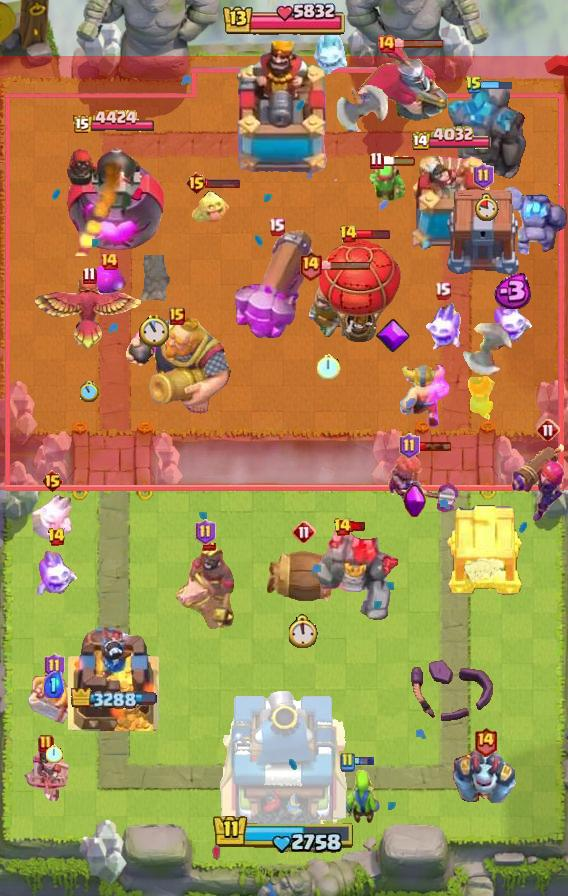axe: (335, 68, 389, 132), (459, 323, 525, 375)
bar: (320, 260, 372, 271), (393, 38, 445, 49), (205, 177, 241, 189), (381, 155, 417, 167), (356, 228, 391, 240), (417, 441, 452, 452), (481, 80, 513, 91), (353, 756, 375, 767), (350, 521, 367, 532)
bar-level: (473, 726, 498, 757), (298, 250, 323, 281), (292, 520, 316, 544), (536, 418, 560, 442), (41, 469, 64, 493), (185, 171, 208, 195), (44, 653, 65, 679), (195, 519, 216, 545), (399, 433, 420, 459), (473, 163, 494, 189), (99, 251, 119, 271), (376, 34, 396, 54), (47, 527, 66, 547), (333, 517, 352, 537), (339, 224, 358, 244), (465, 75, 483, 95), (434, 281, 451, 300), (268, 217, 285, 236), (339, 752, 355, 772), (38, 734, 54, 754), (169, 307, 185, 325), (82, 266, 97, 285), (369, 151, 384, 170)
barbarian-barrel: (264, 548, 344, 608)
cannoneer-tower: (64, 138, 165, 256)
clock: (289, 614, 319, 648), (139, 314, 169, 347), (475, 193, 499, 221), (317, 353, 341, 380), (80, 381, 99, 402), (46, 744, 63, 763)
dirt: (135, 255, 173, 301)
elite-barbarian: (399, 362, 450, 428), (28, 672, 81, 724)
elixir: (489, 273, 533, 309), (44, 671, 64, 698)
elixir-golem-small: (91, 266, 127, 296)
evolution-symbol: (375, 318, 411, 354), (403, 484, 427, 520)
firecracker-evolution: (508, 439, 568, 525)
goblin: (343, 767, 381, 825)
golemite: (502, 184, 568, 256)
heal-spirit: (191, 187, 231, 225)
ice-spirit: (311, 28, 355, 78), (30, 493, 74, 539)
ice-spirit-evolution: (35, 548, 77, 598), (490, 296, 532, 346), (422, 302, 462, 352)
king-tower: (214, 684, 354, 826), (228, 41, 340, 181)
king-tower-bar: (212, 813, 356, 855), (221, 0, 347, 40)
mega-minion: (453, 745, 517, 803)
princess: (21, 743, 71, 801)
queen-tower: (68, 627, 160, 731), (407, 156, 499, 256)
royal-recruit: (304, 269, 354, 341)
spear-goblin: (367, 162, 407, 204)
tower-bar: (72, 109, 156, 136), (412, 126, 494, 153), (71, 688, 157, 711)
valkyrie: (463, 371, 501, 423)
valkyrie-evolution: (387, 450, 459, 513)
